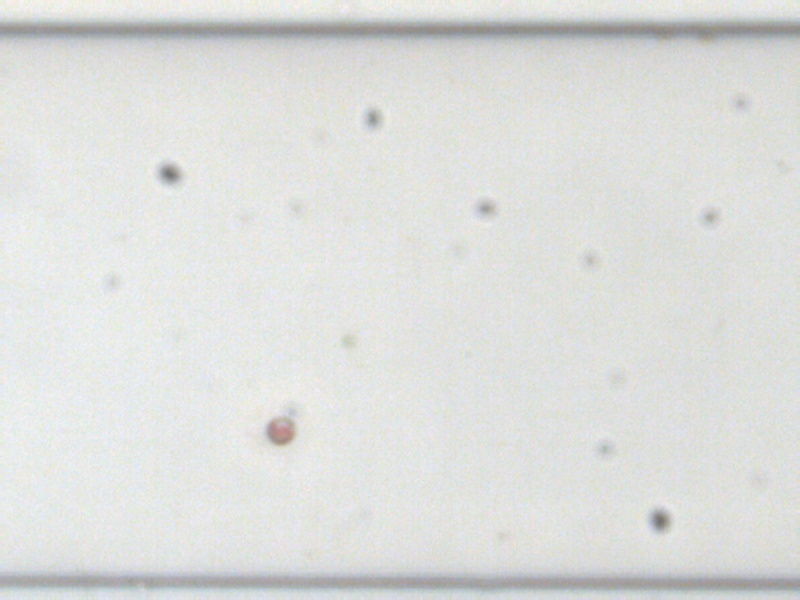Chlorella: (341, 332, 358, 347)
Porphyridium: (260, 412, 296, 446)
